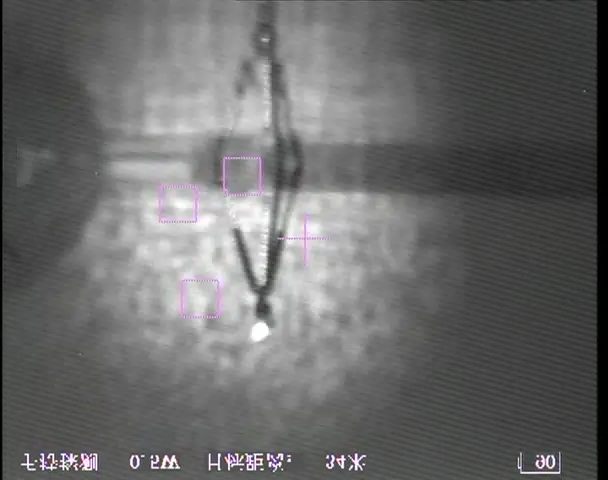my: (248, 318, 273, 344)
